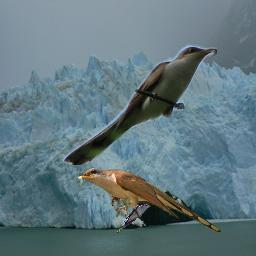Cuckoo: (63, 44, 217, 165), (74, 167, 222, 233), (117, 204, 151, 233)
